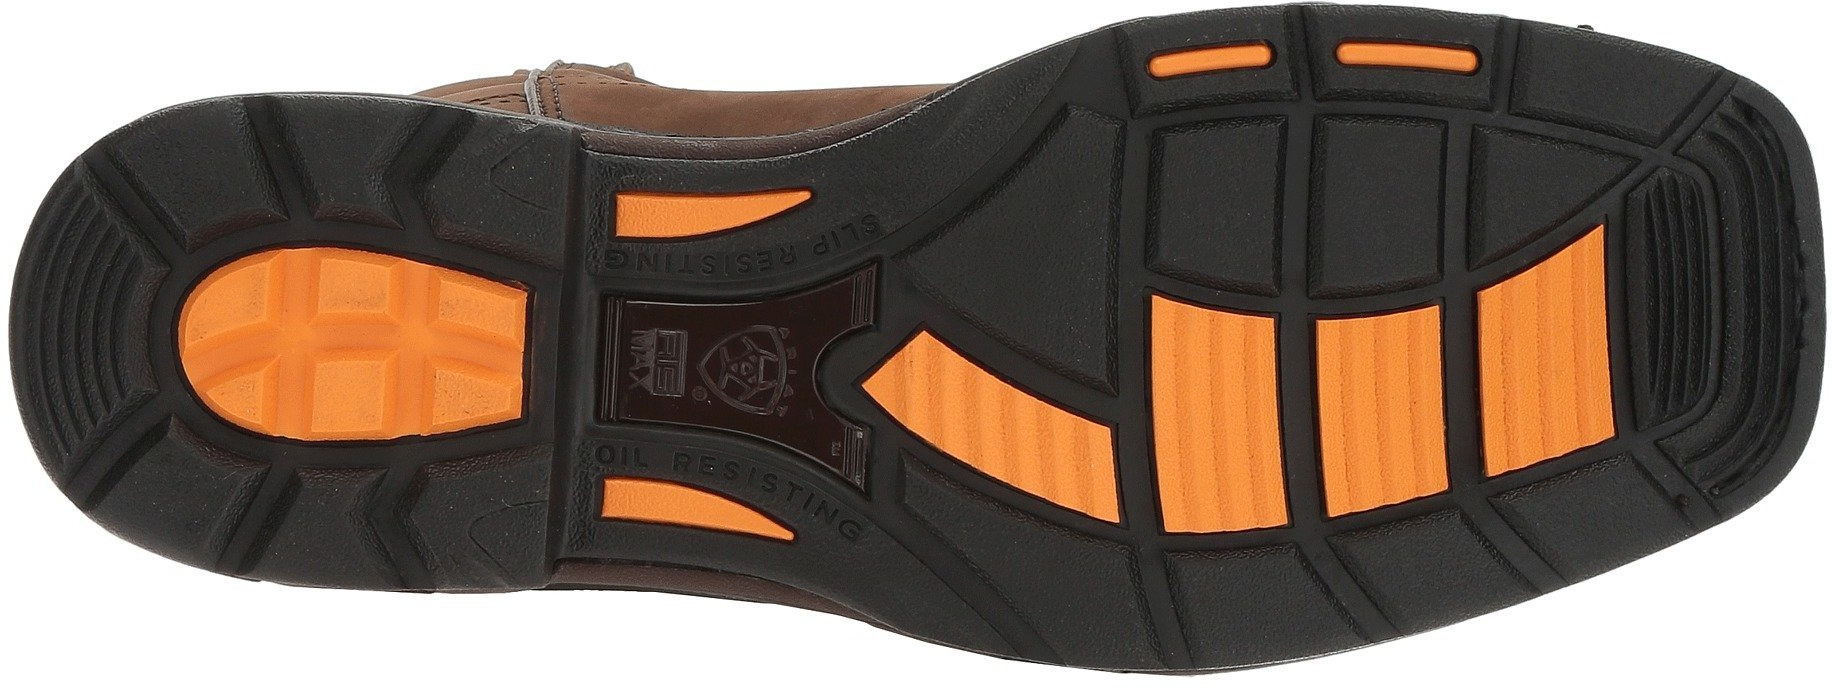other: (13, 255, 125, 368)
quad: (1200, 100, 1424, 300), (211, 245, 419, 440), (1157, 343, 1346, 541), (1408, 334, 1571, 504)
text: (615, 288, 771, 441)
triangle: (1455, 104, 1649, 290)
